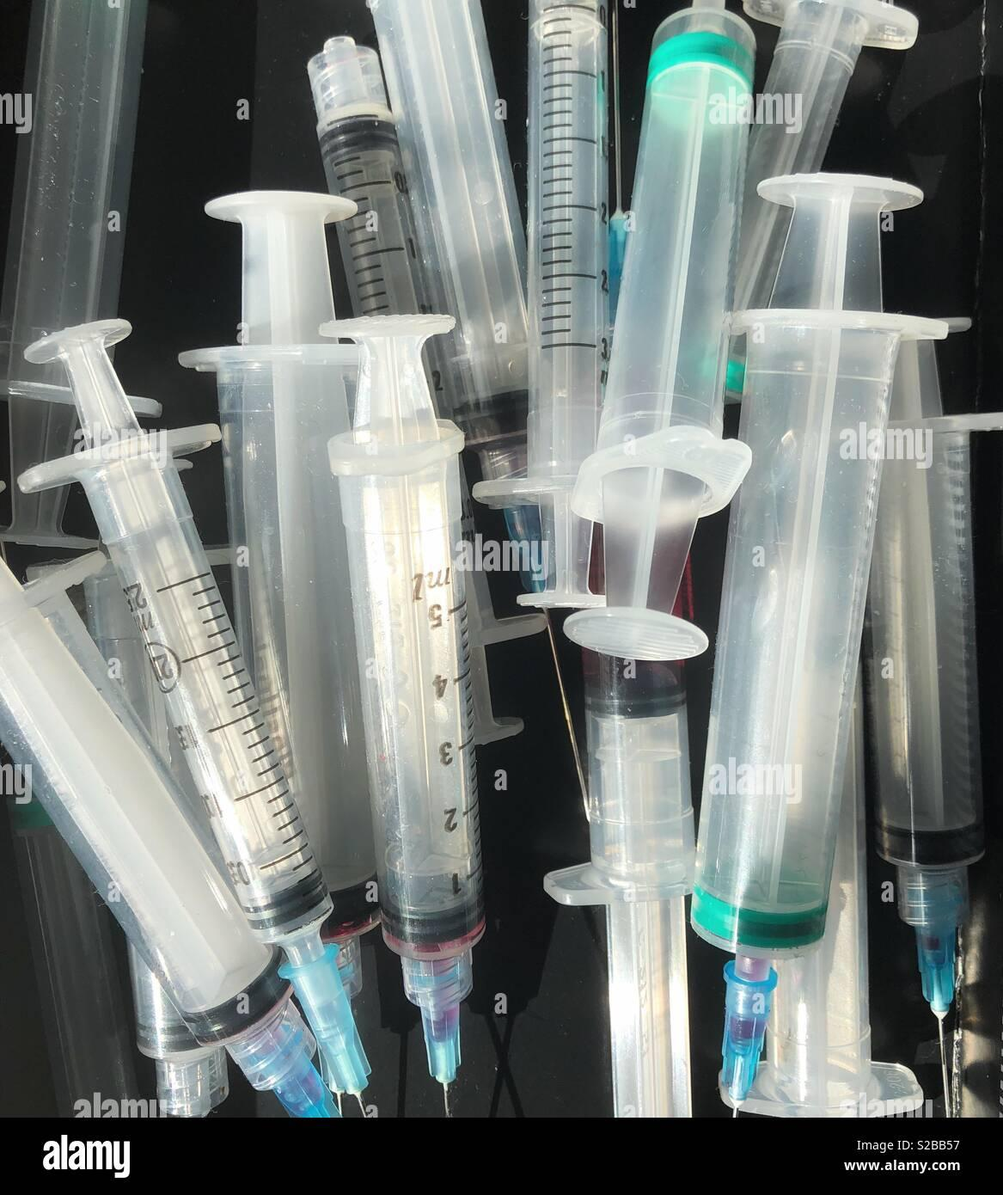Syringe: (19, 321, 368, 1094), (692, 175, 945, 1105), (0, 564, 336, 1116), (180, 191, 377, 953), (565, 0, 754, 659), (324, 316, 484, 1089), (864, 342, 1000, 1033), (474, 0, 609, 607), (743, 681, 922, 1118), (372, 0, 528, 479), (544, 653, 694, 1118), (735, 0, 917, 309), (308, 37, 442, 317), (77, 554, 187, 790), (608, 3, 629, 329)
